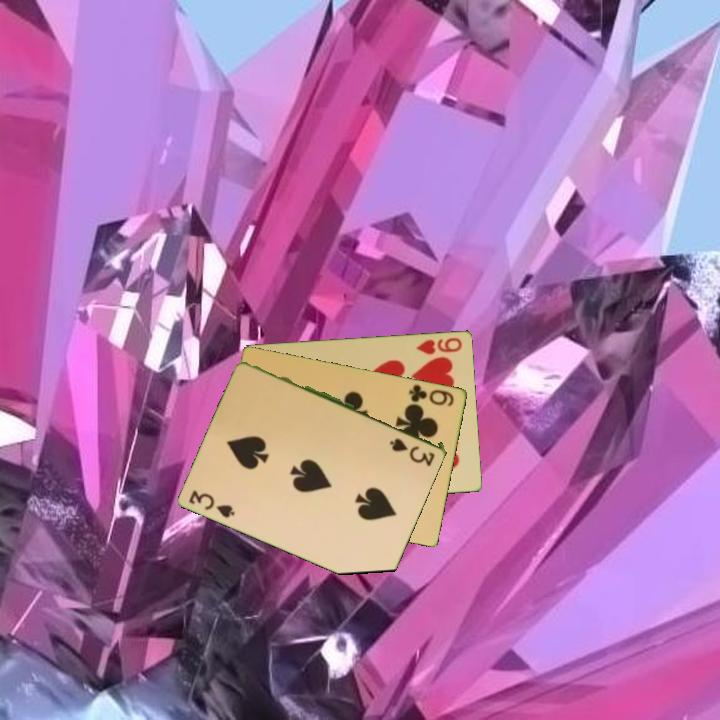3s: (185, 486, 238, 521), (386, 434, 438, 466)
6c: (406, 381, 457, 409)
9h: (413, 334, 465, 357)
